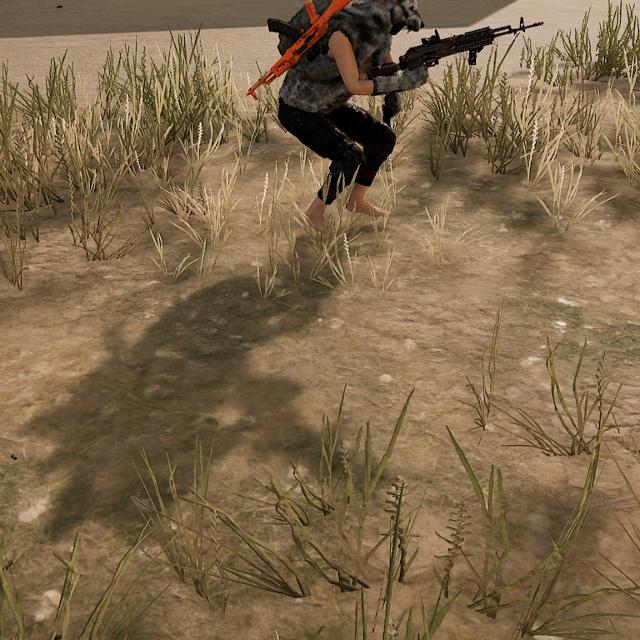people: (267, 0, 426, 243)
